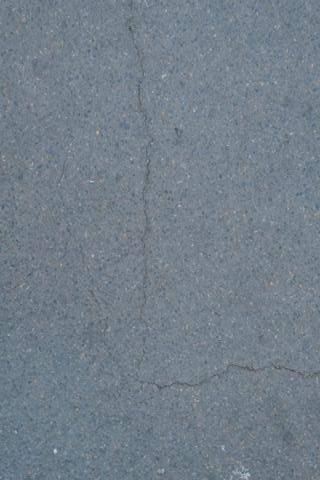A: (117, 16, 157, 382), (153, 360, 320, 391)
